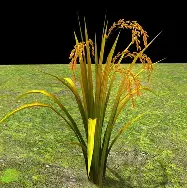crops: (124, 74, 186, 185), (0, 148, 71, 187), (0, 63, 60, 93)
